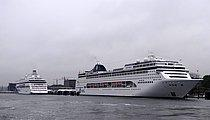Ship: (75, 51, 207, 102)
